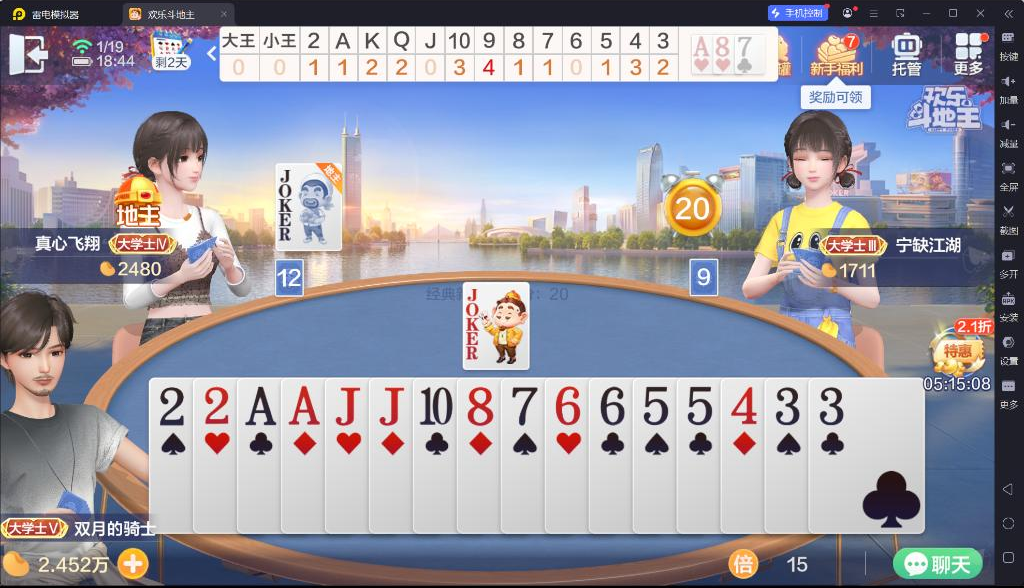A: (288, 384, 323, 427), (244, 385, 278, 427), (692, 35, 711, 58)
J: (376, 384, 406, 427), (332, 384, 361, 427)
JOKER: (464, 286, 482, 338)
eight: (466, 384, 496, 428), (714, 35, 731, 58)
five: (641, 384, 671, 427), (684, 384, 714, 427)
four: (728, 385, 758, 426)
joker: (277, 167, 293, 217)
seven: (508, 386, 541, 429), (736, 36, 753, 57)
six: (552, 384, 582, 426), (597, 384, 626, 427)
ten: (419, 384, 455, 427)
three: (773, 384, 802, 427), (817, 384, 844, 426)
two: (156, 385, 188, 427), (201, 385, 233, 427)
